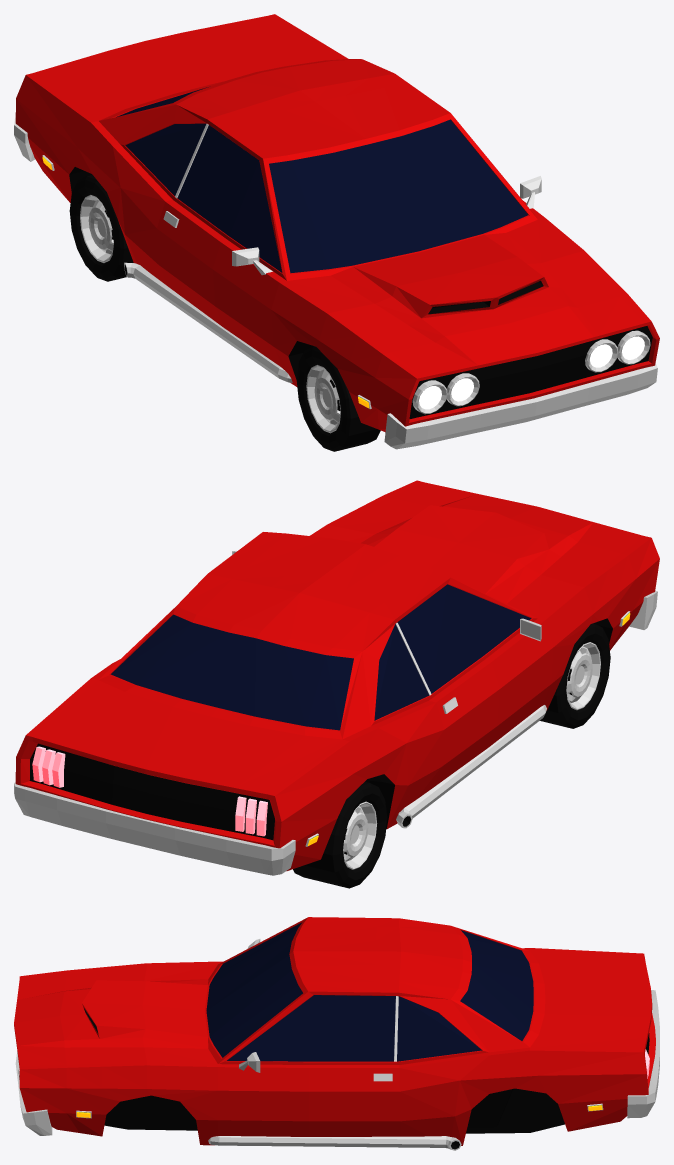
File: HorsaCar6600.glb
3 renders of one model, top to bottom at view 1: azimuth 30°, elevation 25°; view 2: azimuth 150°, elevation 25°; view 3: azimuth 270°, elevation 25°, orthographic. The views are drawn at different scales.
Visible parts, largest first — view 1: Metal, Glass, Furniture, Salon, WheelFR, WheelRR, LightFront, Blacks; view 2: Metal, Glass, Furniture, Salon, WheelRR, WheelFR, LightRear, Blacks; view 3: Metal, Glass, Furniture, Blacks, Salon.
Part boxes in pixels (x1,y1,x2,y2): Metal: (15, 14, 659, 432); Glass: (116, 87, 527, 273); Furniture: (14, 117, 657, 449); Salon: (409, 326, 652, 418); WheelFR: (296, 346, 380, 451); WheelRR: (69, 175, 133, 281); LightFront: (419, 336, 644, 409); Blacks: (69, 167, 543, 379); Metal: (15, 480, 659, 871); Glass: (111, 584, 531, 730); Furniture: (14, 550, 657, 875); Salon: (29, 743, 369, 840); WheelRR: (293, 782, 387, 888); WheelFR: (540, 623, 610, 728); LightRear: (32, 746, 267, 836); Blacks: (368, 618, 612, 828); Metal: (14, 917, 655, 1145); Glass: (206, 922, 533, 1061); Furniture: (15, 939, 659, 1150); Blacks: (84, 1008, 564, 1149); Salon: (467, 1033, 649, 1128).
Bounding box in the file's own units: 5.46 × 3.6 × 12.16.
